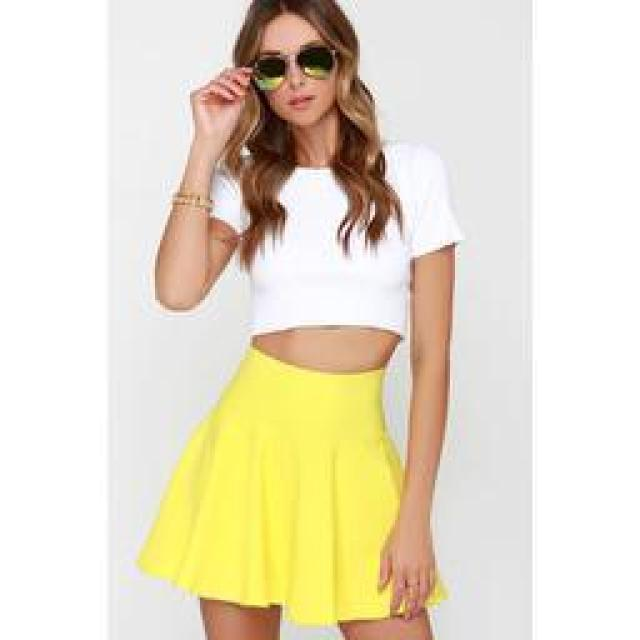Tshirt: (207, 145, 465, 340)
skirt: (139, 344, 449, 626)
